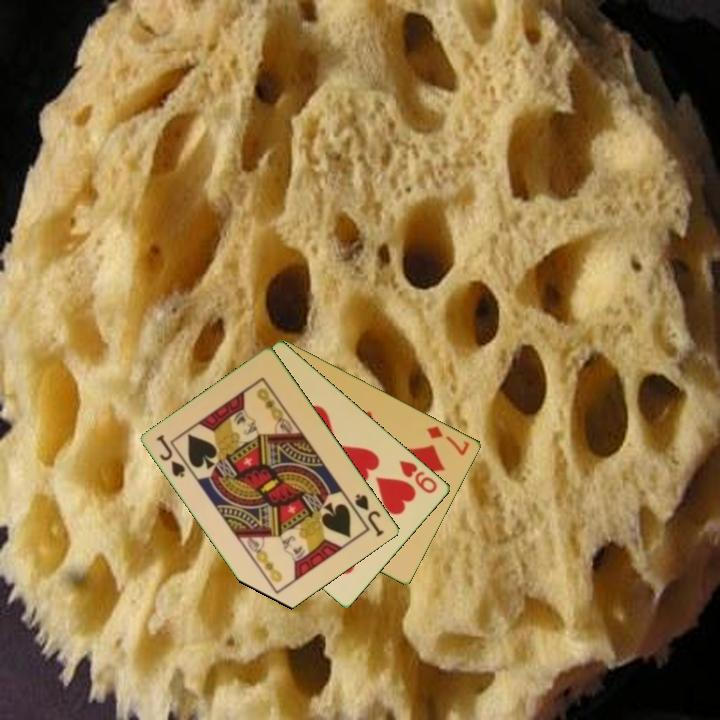7d: (423, 422, 473, 458)
9h: (396, 456, 440, 496)
Js: (351, 490, 388, 540), (153, 431, 189, 480)
